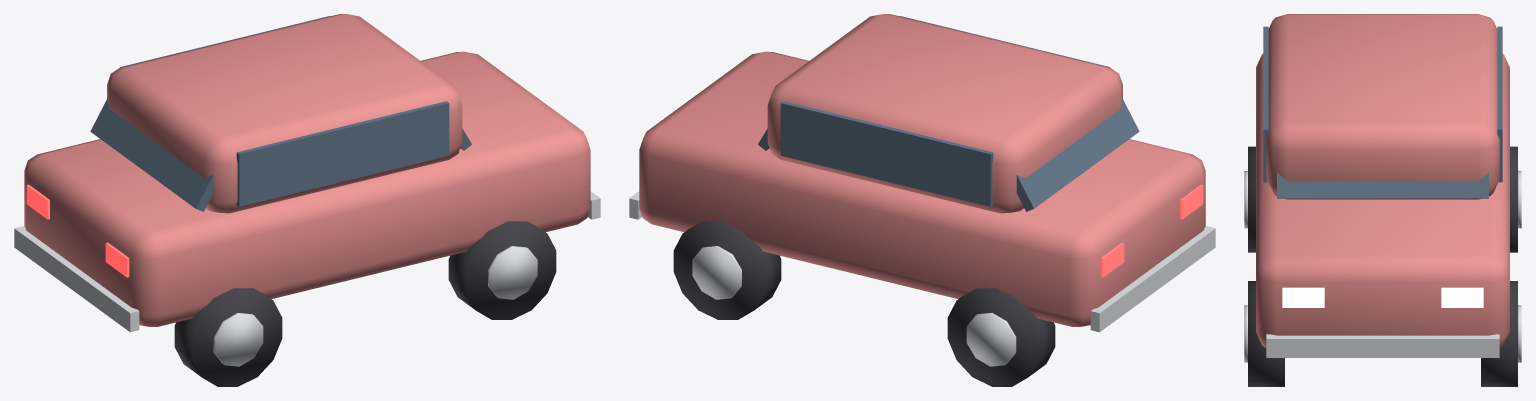
Rendered from car.glb.
3 renders of one model, left to right at view 1: azimuth 30°, elevation 25°; view 2: azimuth 150°, elevation 25°; view 3: azimuth 270°, elevation 25°, orthographic.
Parts seen in each view (by area): view 1: Car; view 2: Car; view 3: Car.
Part boxes in pixels (x1,y1,x2,y2): Car: (14, 14, 600, 386); Car: (629, 14, 1215, 386); Car: (1244, 14, 1521, 386).
Bounding box in the file's own units: 1.03 × 0.49 × 0.524.
